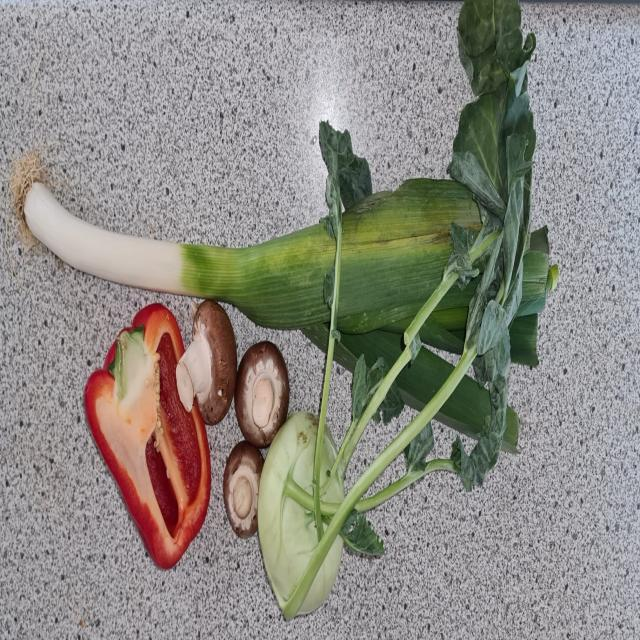Mushroom: (177, 301, 237, 424), (235, 341, 290, 451), (224, 440, 266, 537)
